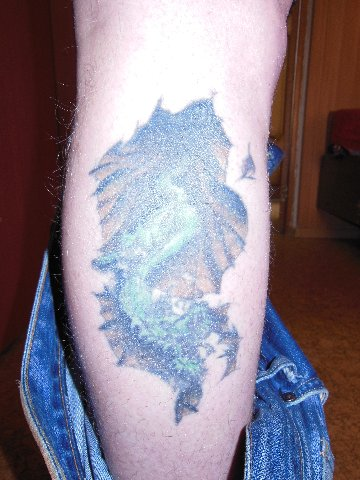tatu6_drakon: (83, 81, 261, 431)
